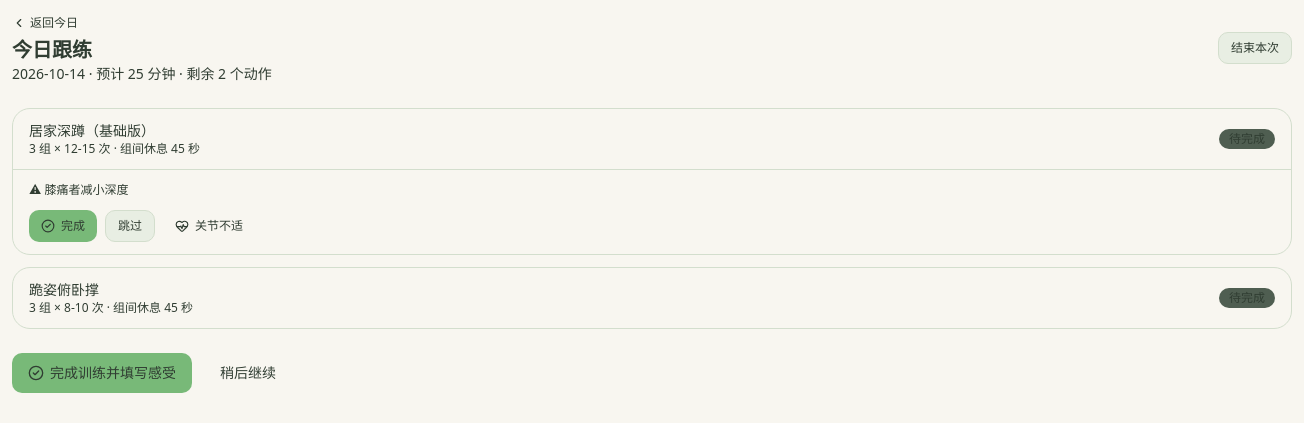
WorkoutPage › requires feedback before completing and submits it with the duration
Click the button "完成训练并填写感受": (102,373) [12,353,192,393]
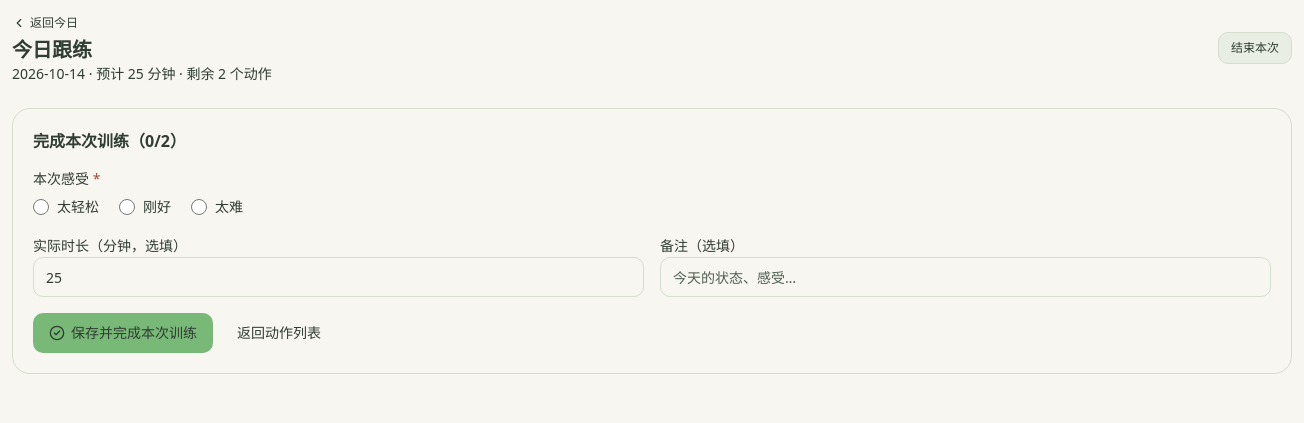
Submitting without feedback is blocked client-side.
Click the button "保存并完成本次训练": (123,333) [33,313,213,353]
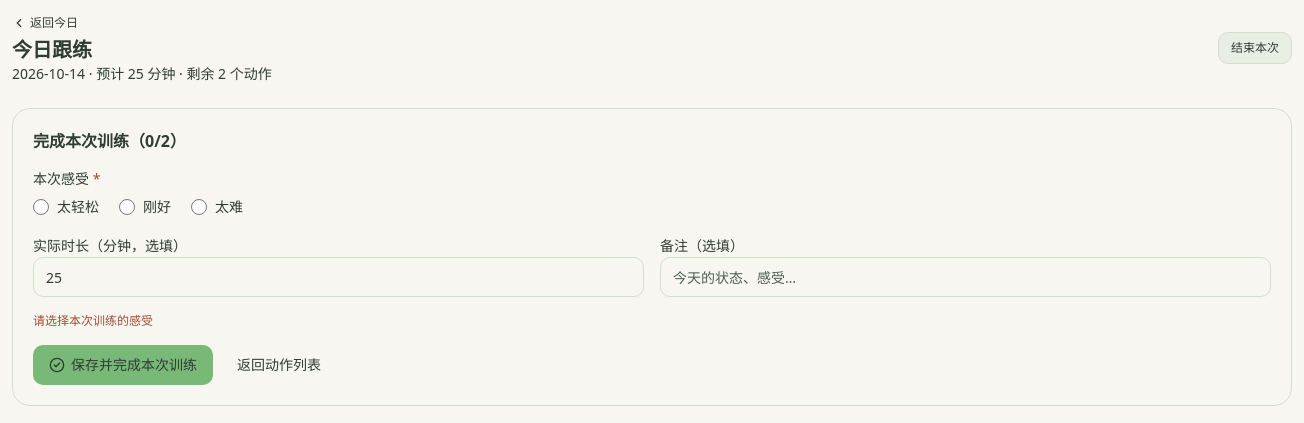
Check: the text "请选择本次训练的感受" is shown, box [33,312,153,329]
Click the radio button labelled "太难": (199,207) [191,199,207,215]
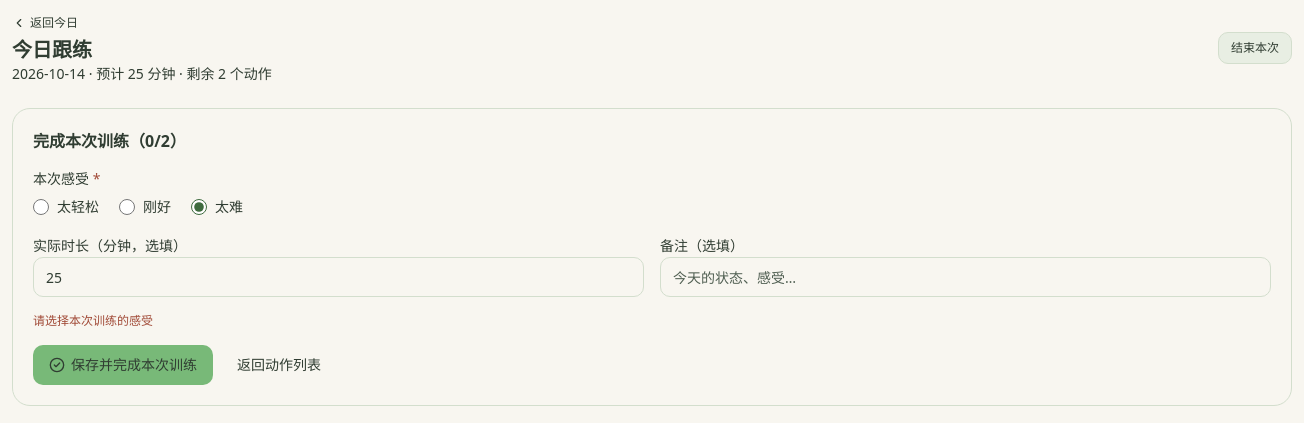
Click the button "保存并完成本次训练": (123,365) [33,345,213,385]
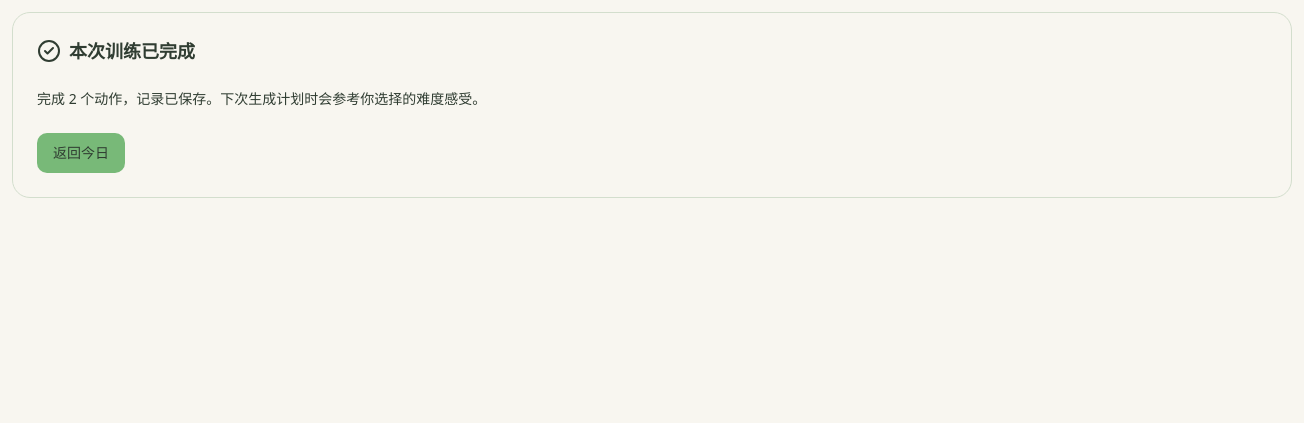
Check: the heading "本次训练已完成" is shown, box [69,37,195,65]
